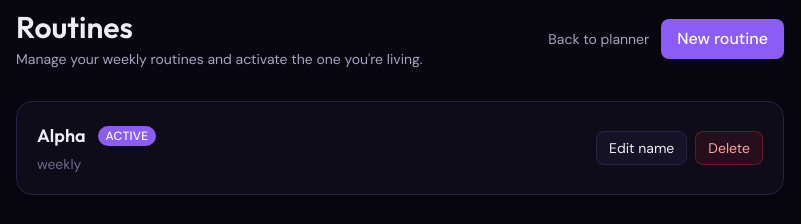
it: Routines page › deletes a routine after confirmation
This screenshot has width=801, height=224.
Expected: the heading "Alpha" is shown, 37,122 -> 86,150
Click the button "Delete" at {"x": 729, "y": 148}, box 695,131 -> 763,165
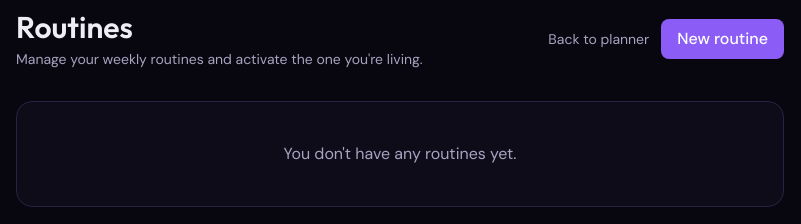
Expected: the text "You don't have any routines yet." is shown, 284,143 -> 516,164
